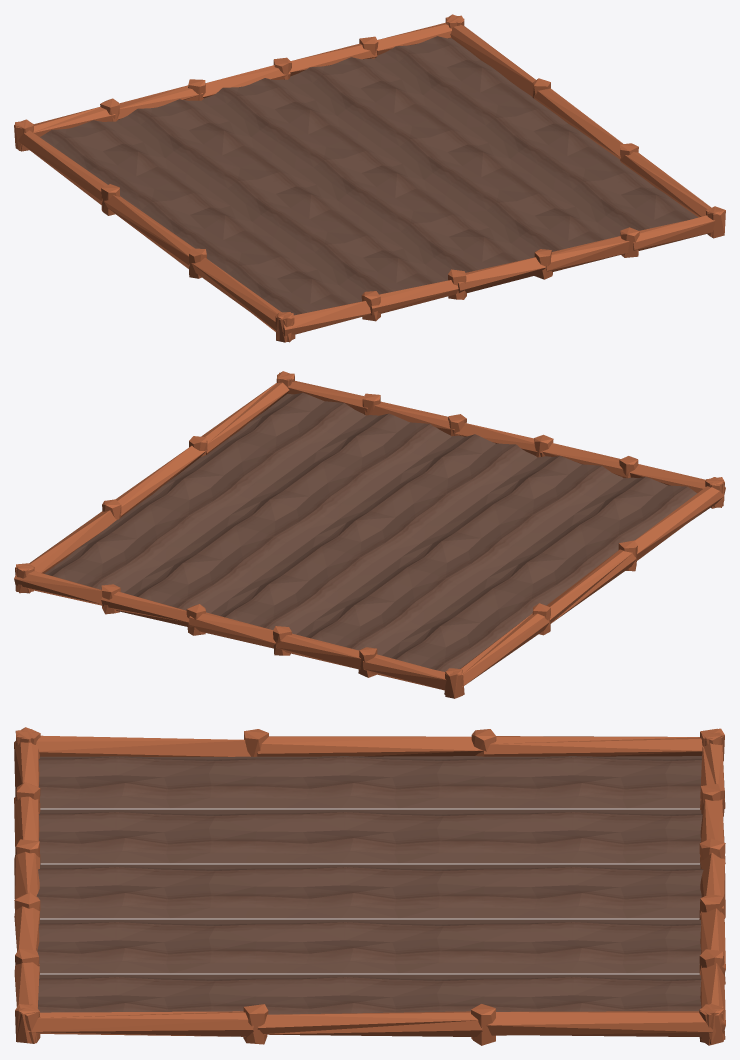
The model's file is Soil.fbx.
3 renders of one model, top to bottom at view 1: azimuth 30°, elevation 25°; view 2: azimuth 150°, elevation 25°; view 3: azimuth 270°, elevation 25°, orthographic. The views are drawn at different scales.
Parts seen in each view (by area): view 1: Soil, Soil.007, Soil.004, Soil.002, Soil.008, Soil.011, Soil.003, Soil.005, Soil.010; view 2: Soil, Soil.002, Soil.004, Soil.007, Soil.008, Soil.003, Soil.011, Soil.005, Soil.010; view 3: Soil, Soil.008, Soil.004, Soil.007, Soil.002, Soil.003, Soil.010, Soil.011, Soil.005.
Part boxes in pixels (x1,y1,x2,y2): Soil: (40, 36, 698, 315); Soil.007: (283, 215, 715, 336); Soil.004: (16, 130, 280, 331); Soil.002: (33, 22, 451, 136); Soil.008: (450, 25, 711, 217); Soil.011: (275, 206, 724, 342); Soil.003: (15, 14, 464, 150); Soil.005: (14, 119, 294, 342); Soil.010: (445, 15, 725, 236); Soil: (44, 392, 696, 671); Soil.002: (14, 571, 446, 690); Soil.004: (460, 486, 724, 686); Soil.007: (287, 381, 725, 494); Soil.008: (29, 382, 289, 573); Soil.003: (15, 563, 464, 698); Soil.011: (276, 371, 724, 507); Soil.005: (444, 477, 723, 698); Soil.010: (16, 372, 294, 593); Soil: (36, 756, 703, 1014); Soil.008: (27, 1011, 713, 1037); Soil.004: (36, 735, 702, 756); Soil.007: (14, 741, 40, 1007); Soil.002: (699, 743, 725, 1033); Soil.003: (699, 728, 725, 1045); Soil.010: (15, 1004, 725, 1045); Soil.011: (14, 729, 40, 1043); Soil.005: (16, 727, 724, 760).
Size of the model in its own units: 1208 by 65.13 by 1268.
2 materials, 1 textured.
